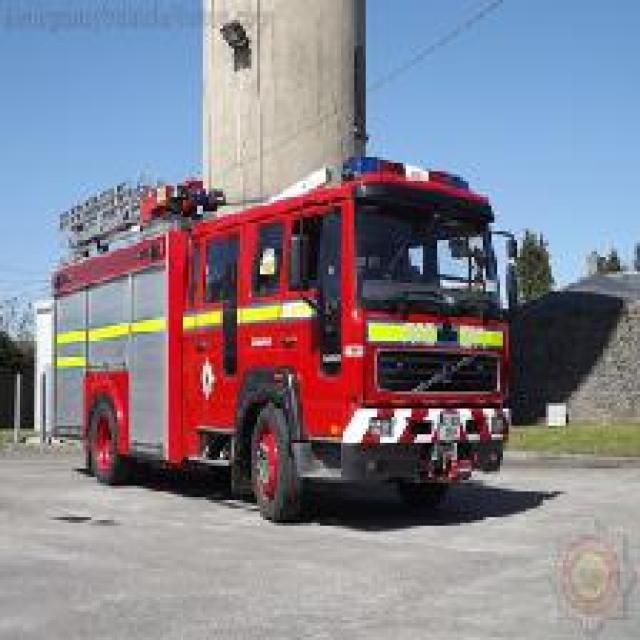emergency: (41, 151, 524, 523)
